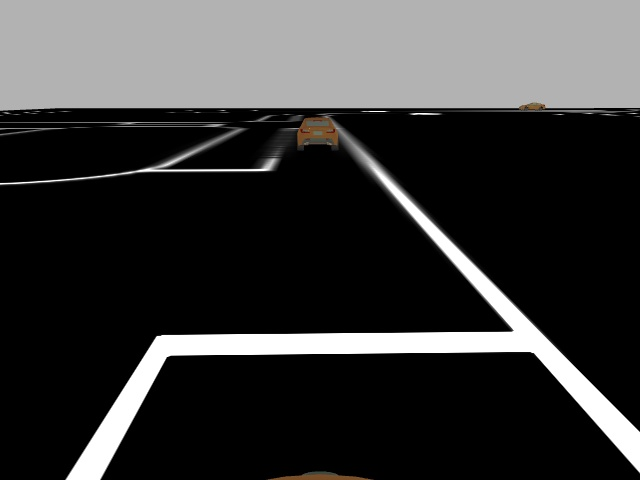obstacle_car: (295, 116, 338, 151)
